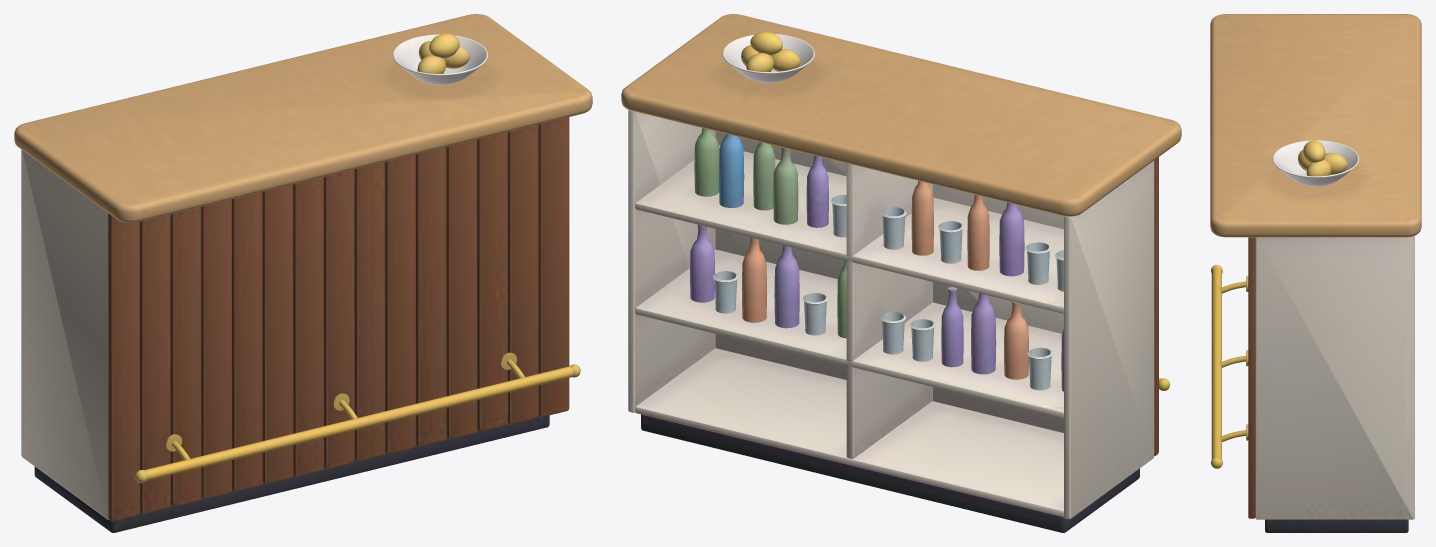
The model's file is bar-counter.glb.
The picture shows the model from 3 angles, left to right: view 1: azimuth 30°, elevation 25°; view 2: azimuth 150°, elevation 25°; view 3: azimuth 270°, elevation 25°; orthographic projection. The views are drawn at different scales.
Visible parts, largest first — view 1: bar-counter_body; view 2: bar-counter_body; view 3: bar-counter_body.
Boxes of the visible parts, <box> form: bar-counter_body: <box>14,14,592,532</box>; bar-counter_body: <box>621,14,1181,532</box>; bar-counter_body: <box>1210,14,1421,532</box>.
Size of the model in its own units: 1.56 by 1.23 by 0.66.
Materials: 1 (1 with a texture image).
